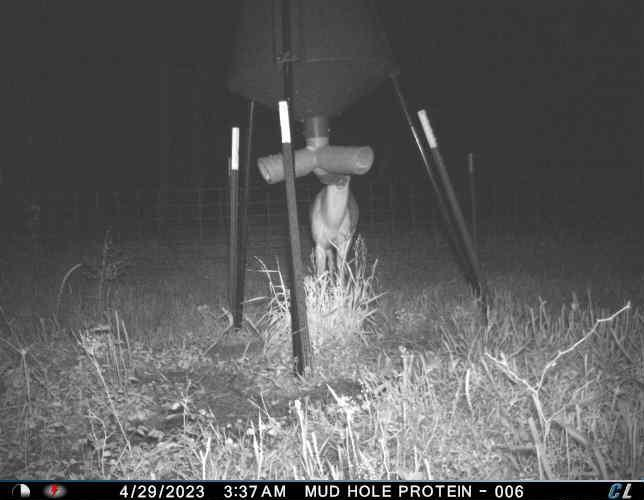Deer: (309, 172, 361, 287)
